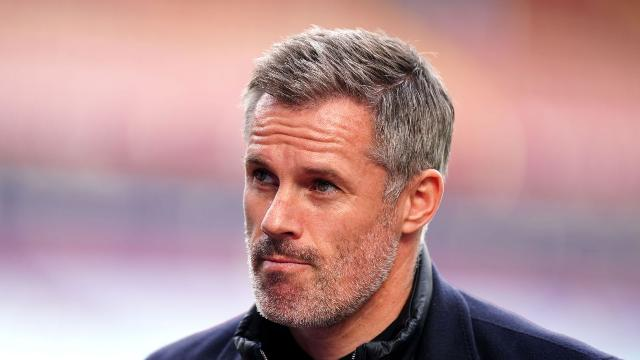forehead: (303, 128, 341, 156), (251, 122, 295, 146)
